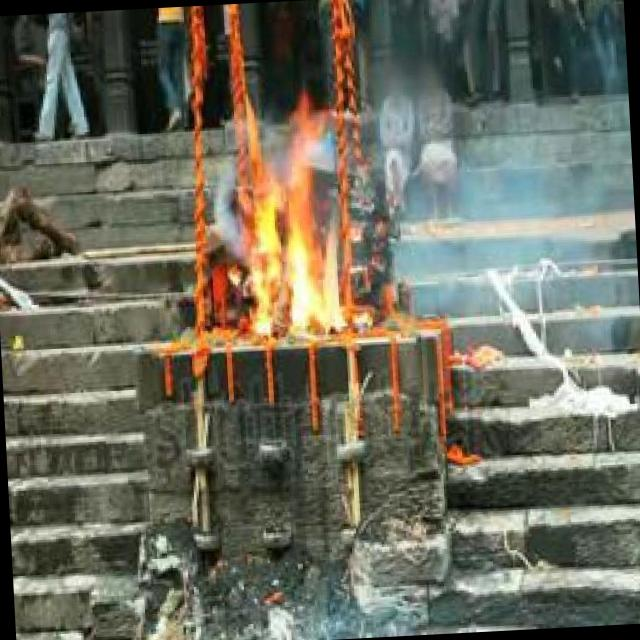Fire: (235, 120, 354, 344)
